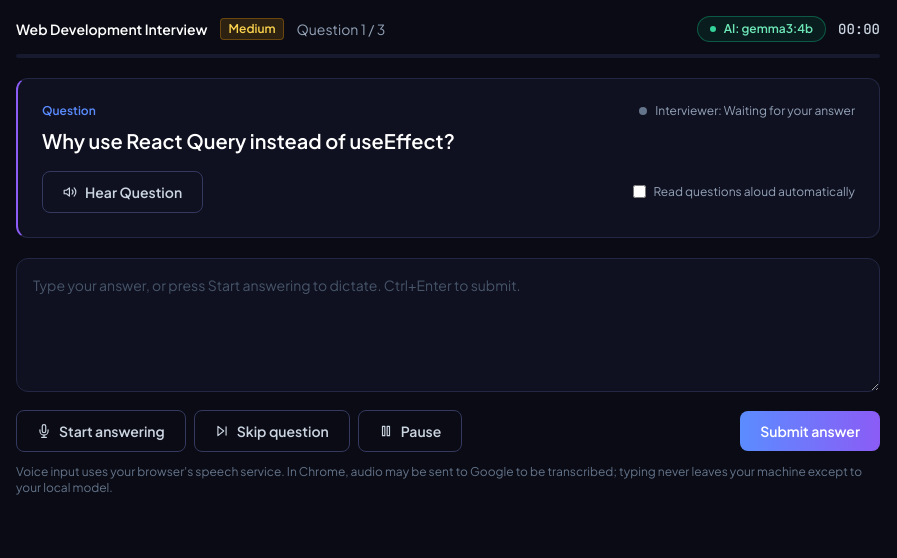
Test case: Room voice controls › Pause stops the interview controls; Resume restores them
The width and height of the screenshot is (897, 558).
Step 1. Click the button "Pause" → (410, 430), box [358,410,462,452]
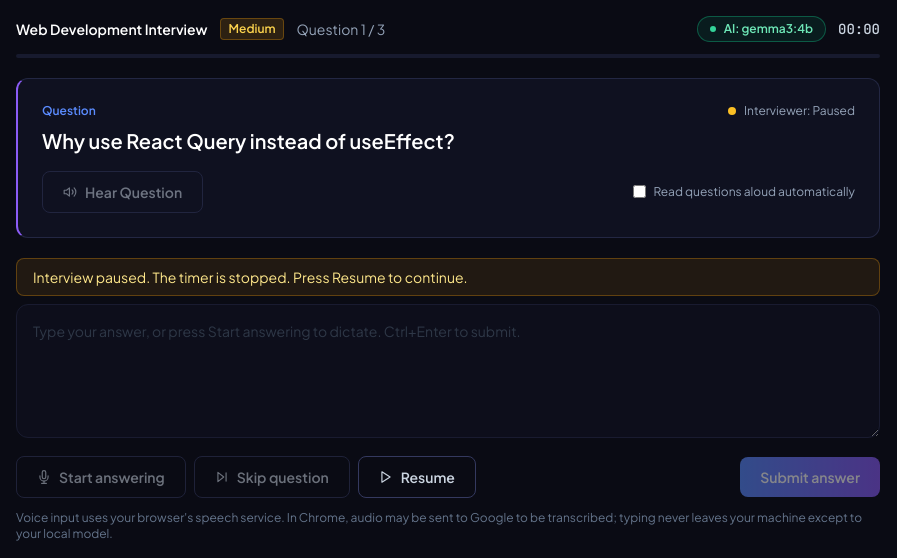
Expected: the message with test id "interviewer-status" shows "Paused", [812,103,855,118]
Expected: the text box labelled "your answer" is disabled, [16,304,880,438]
Expected: the button "Submit answer" is disabled, [740,456,880,496]
Step 2. Click the button "Resume" → (417, 476), box [358,456,476,498]
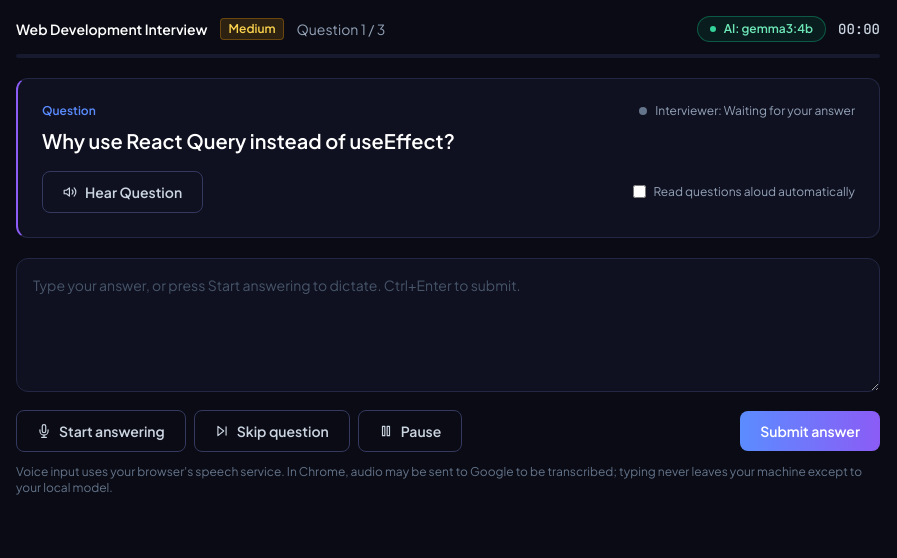
Expected: the text box labelled "your answer" is enabled, [16,258,880,392]
